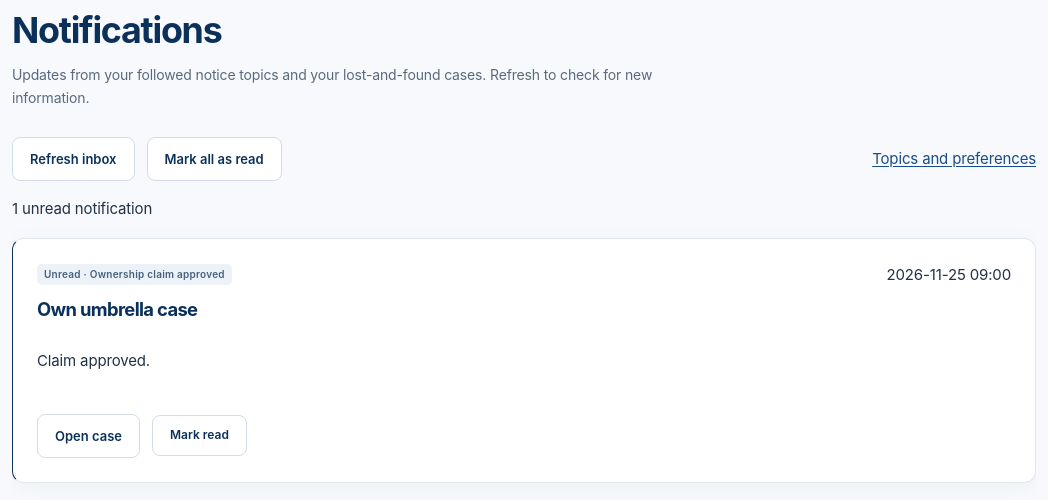
Scenario: shared inbox opens an allowlisted own-case destination with return context
The width and height of the screenshot is (1048, 500).
Click the button "Open case". click: (88, 436)
box: [37,414,140,458]
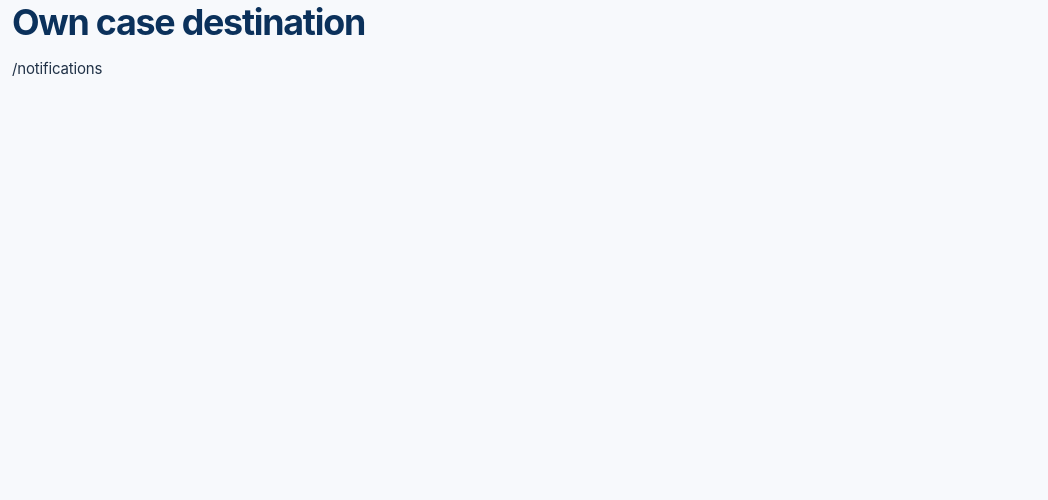
Result: the heading "Own case destination" is shown at [12,0,365,44]
Result: the text "/notifications" is shown at [12,59,102,78]
